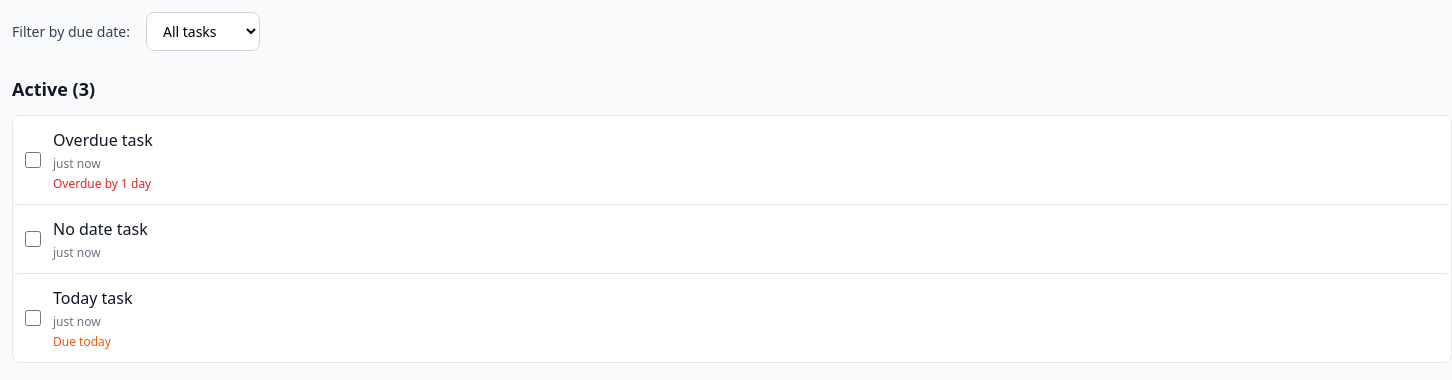
Test case: TaskList › should_filter_by_due_date_overdue
Step 1. Select "Overdue" in the dropdown labelled "Filter by due date:" → (203, 32), box top-left (146, 12), bottom-right (260, 51)
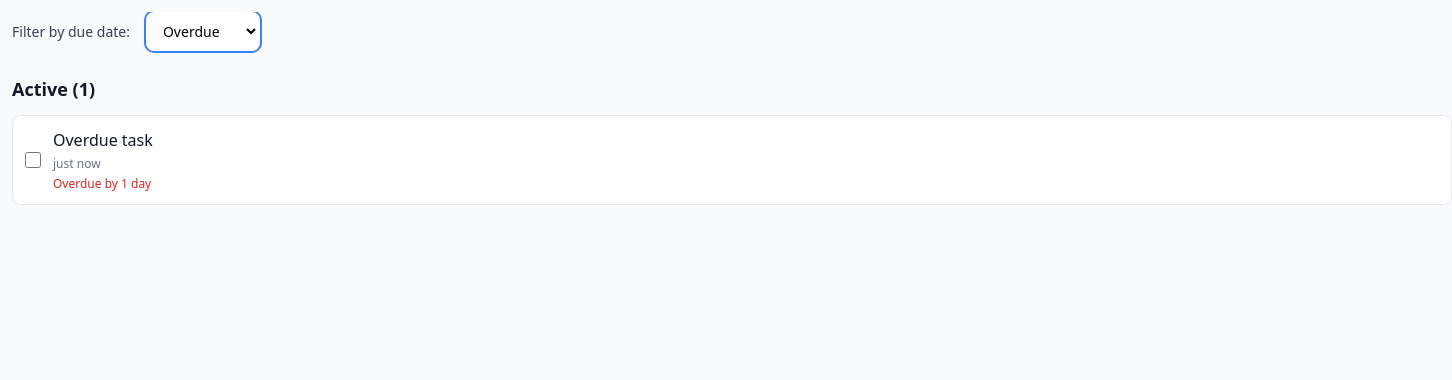
Expected: the text "Overdue task" is shown, top-left (53, 129), bottom-right (153, 151)
Expected: the text "No date task" is gone
Expected: the text "Today task" is gone
